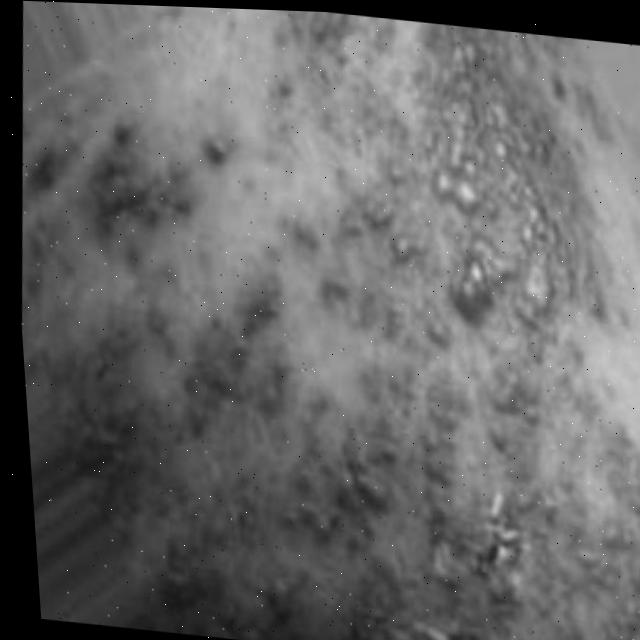Shingles: (31, 1, 640, 640)
